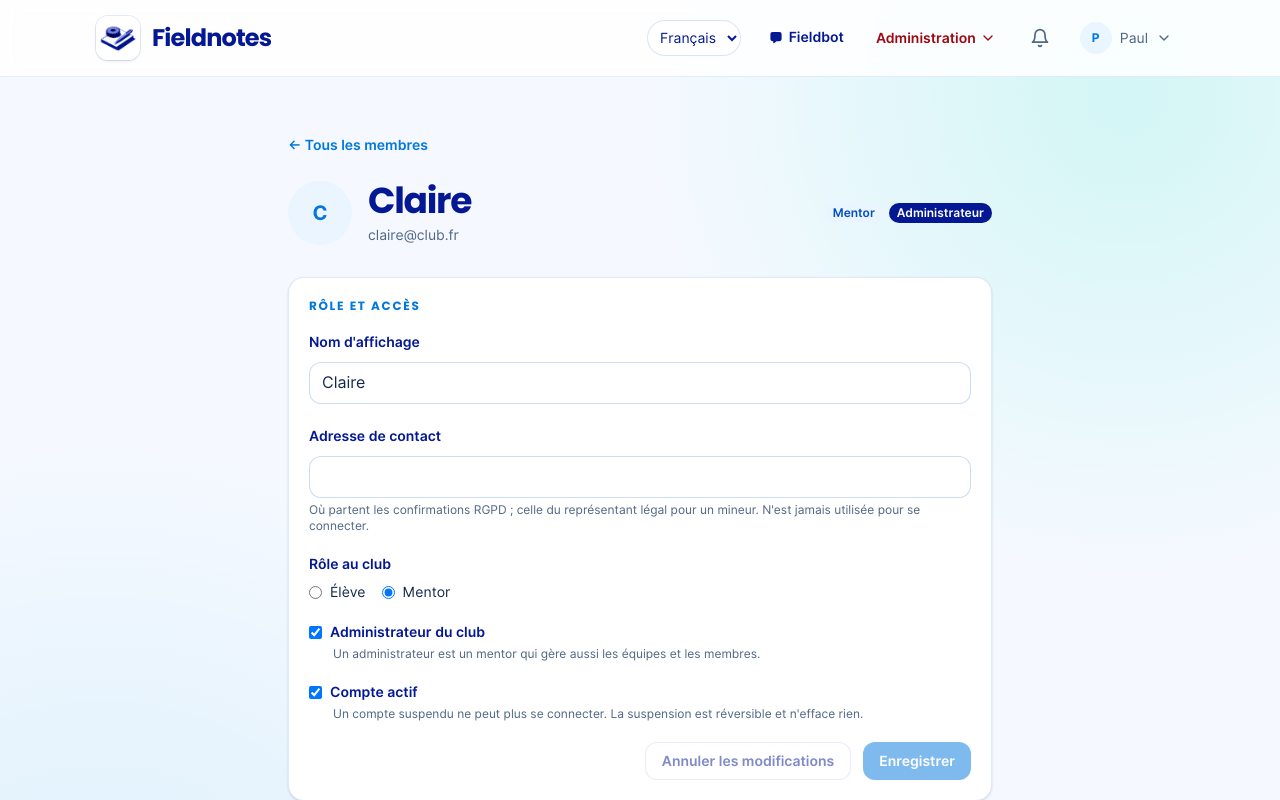
Test: drops the admin flag when a mentor is made a student again
Expected: the checkbox labelled "Administrateur du club" is checked, [309,626,322,638]
Click the radio button labelled "Élève" at [316, 592], box [309,586,322,598]
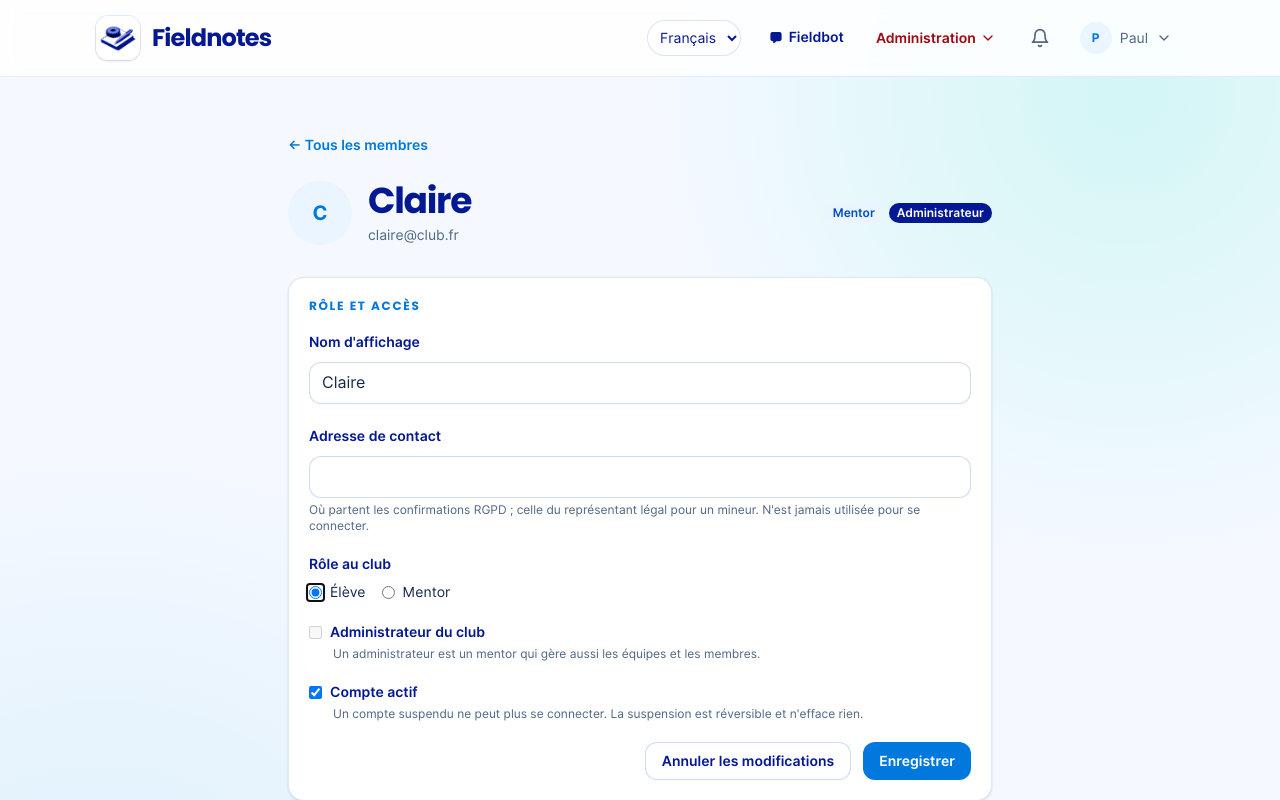
Now the checkbox labelled "Administrateur du club" is not checked, box [309,626,322,638]
Now the checkbox labelled "Administrateur du club" is disabled, box [309,626,322,638]
